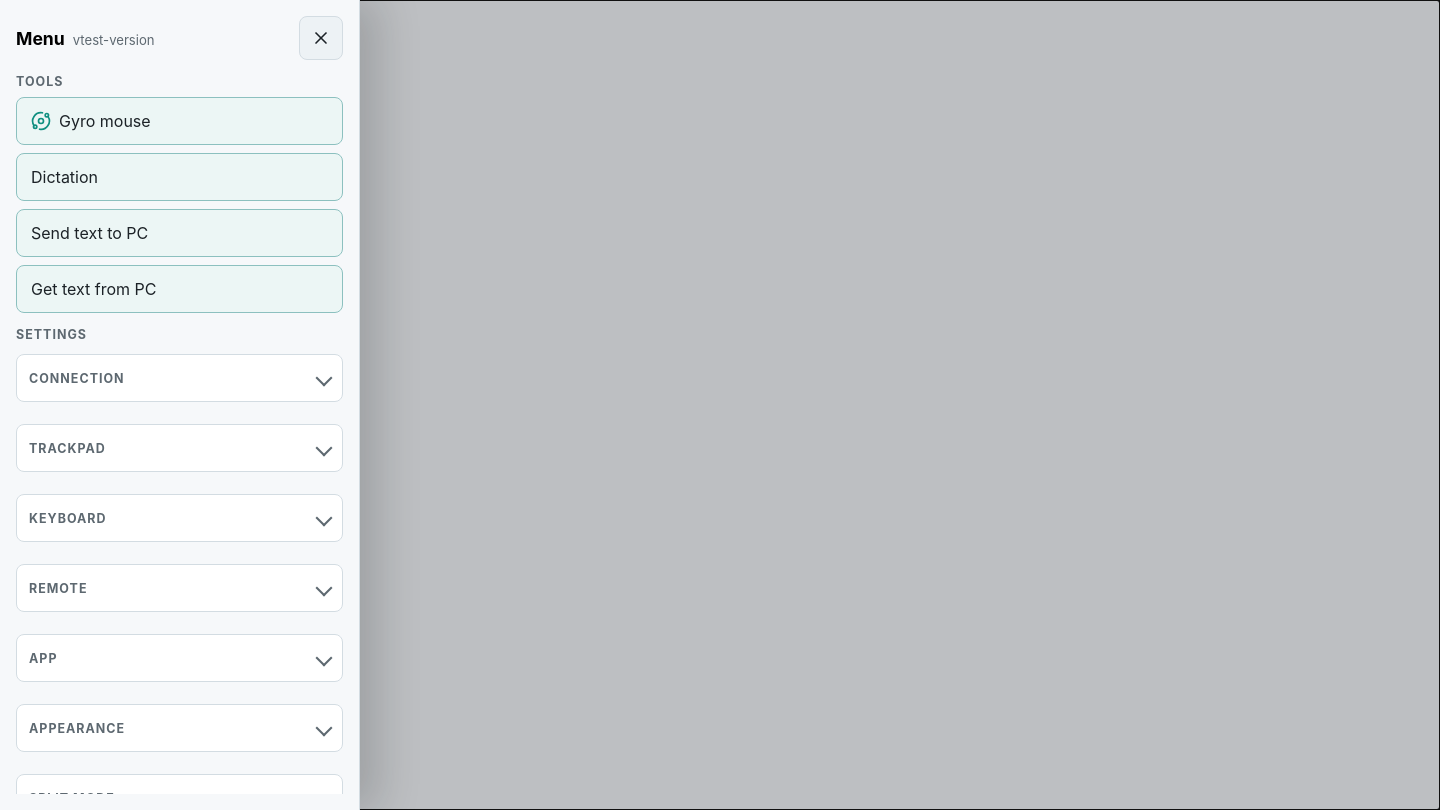
it: SettingsDrawer › hides Presentation and rejects a stale fourth-mode choice when unavailable
The image size is (1440, 810).
Click the heading "App". click: x=43, y=658
box: [16,634,343,682]
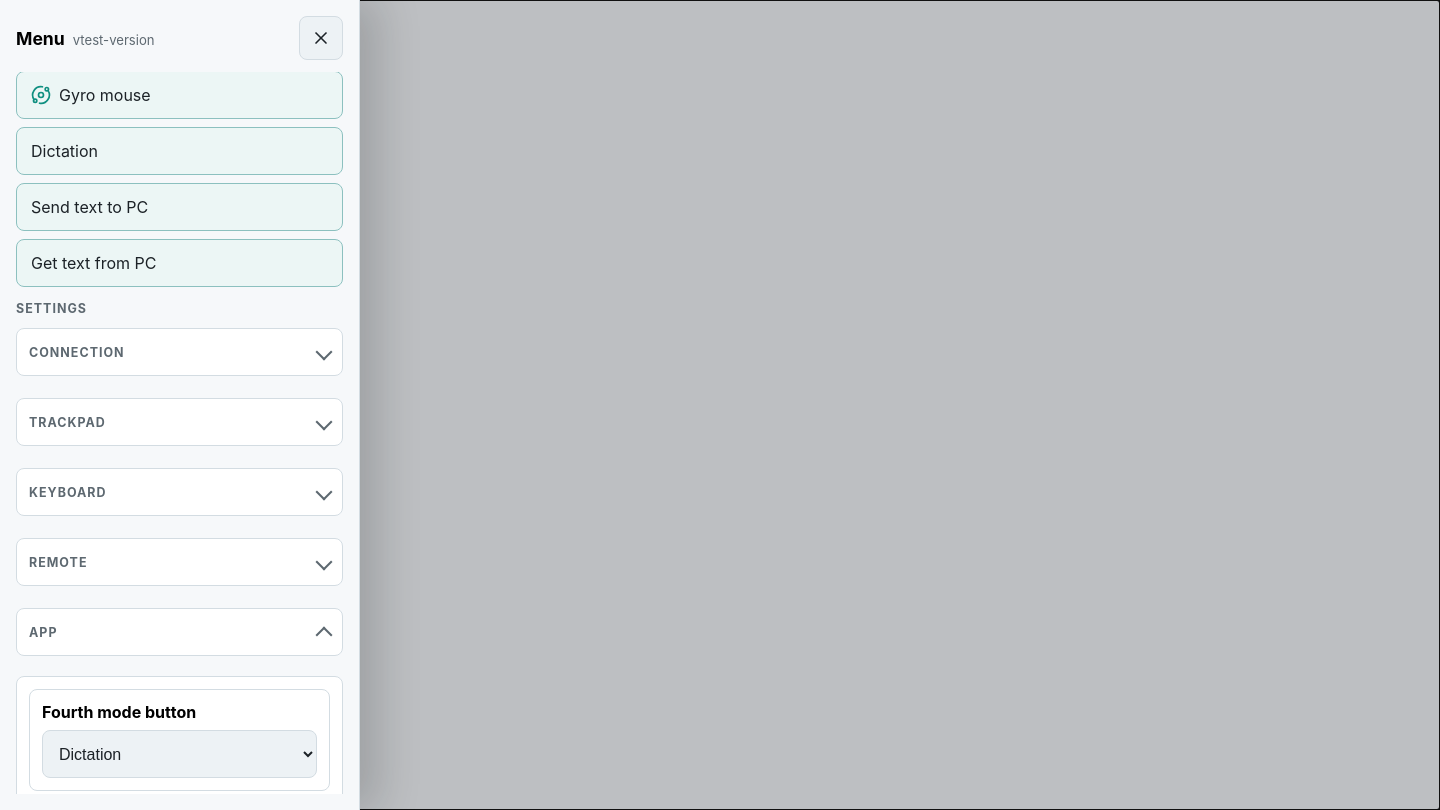
Result: the dropdown labelled "Fourth mode button" shows "Dictation" at [42,730,317,778]
